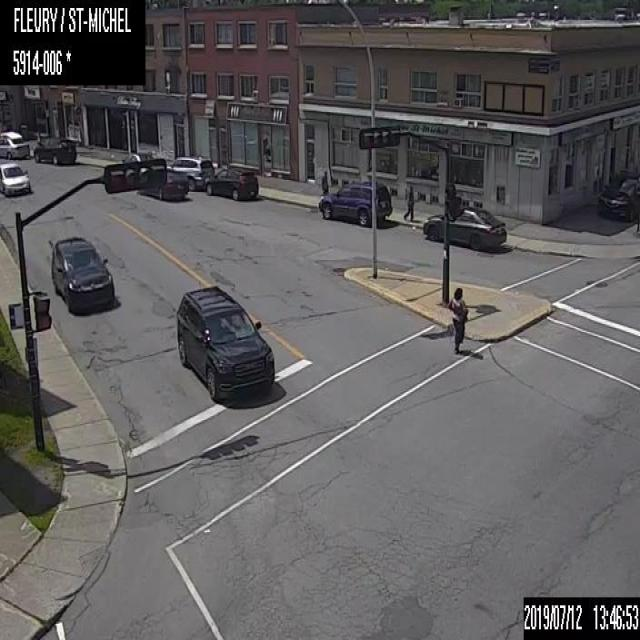pedestrian: (448, 284, 467, 353), (402, 184, 414, 223), (319, 168, 329, 192)
vehicle: (174, 284, 274, 399), (48, 230, 113, 306), (422, 201, 508, 250), (316, 180, 394, 228), (594, 163, 639, 225), (205, 162, 260, 201), (165, 151, 215, 193), (137, 168, 189, 200), (31, 133, 76, 166), (0, 159, 28, 198), (0, 130, 32, 162), (121, 152, 151, 164)
